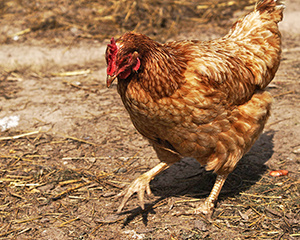chicken: (104, 1, 285, 229)
